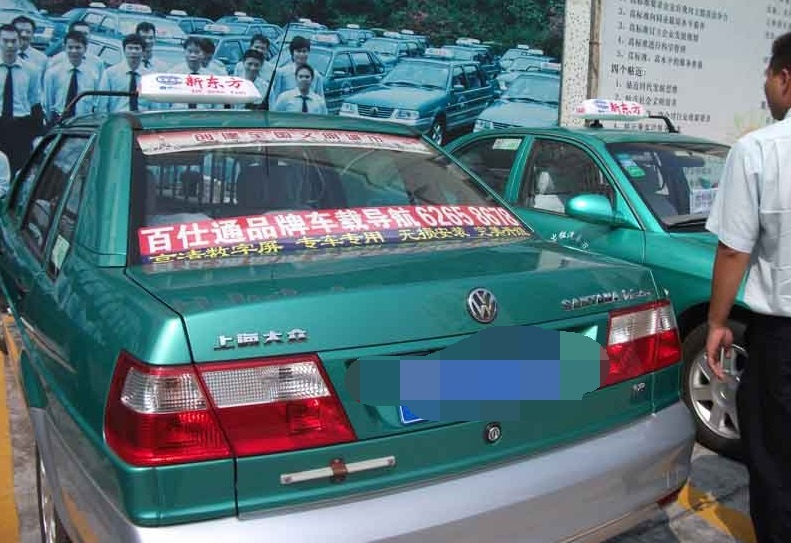taxi: (11, 85, 696, 543)
